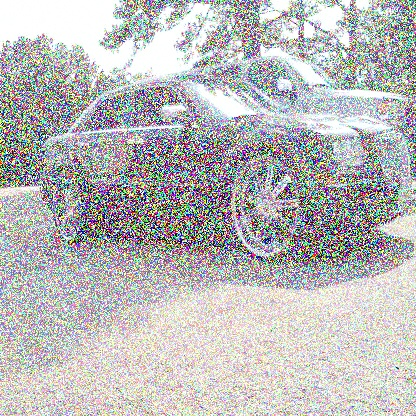Vehicle: (25, 55, 412, 300)
